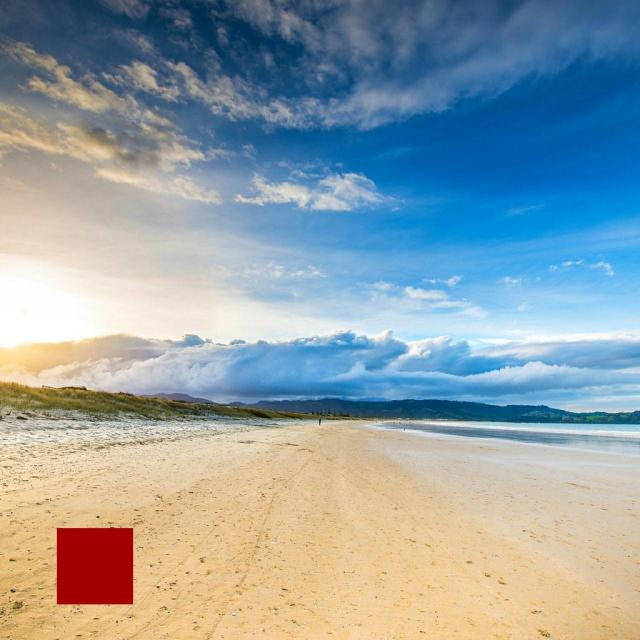RedSquare: (50, 517, 146, 612)
